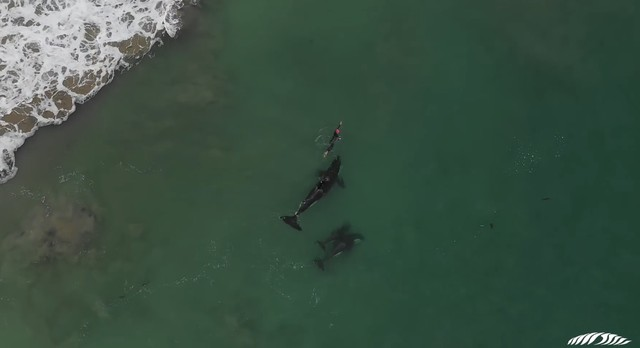whale: (277, 150, 349, 231), (307, 232, 373, 275)
